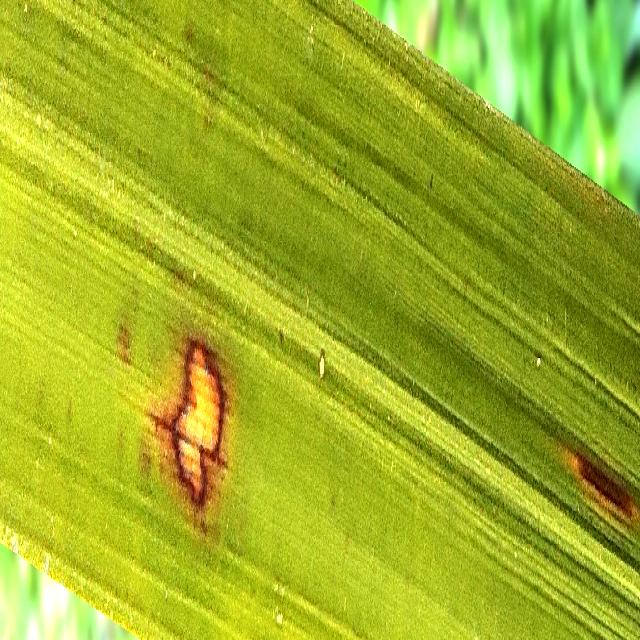LEAF BLAST: (153, 341, 225, 510)
